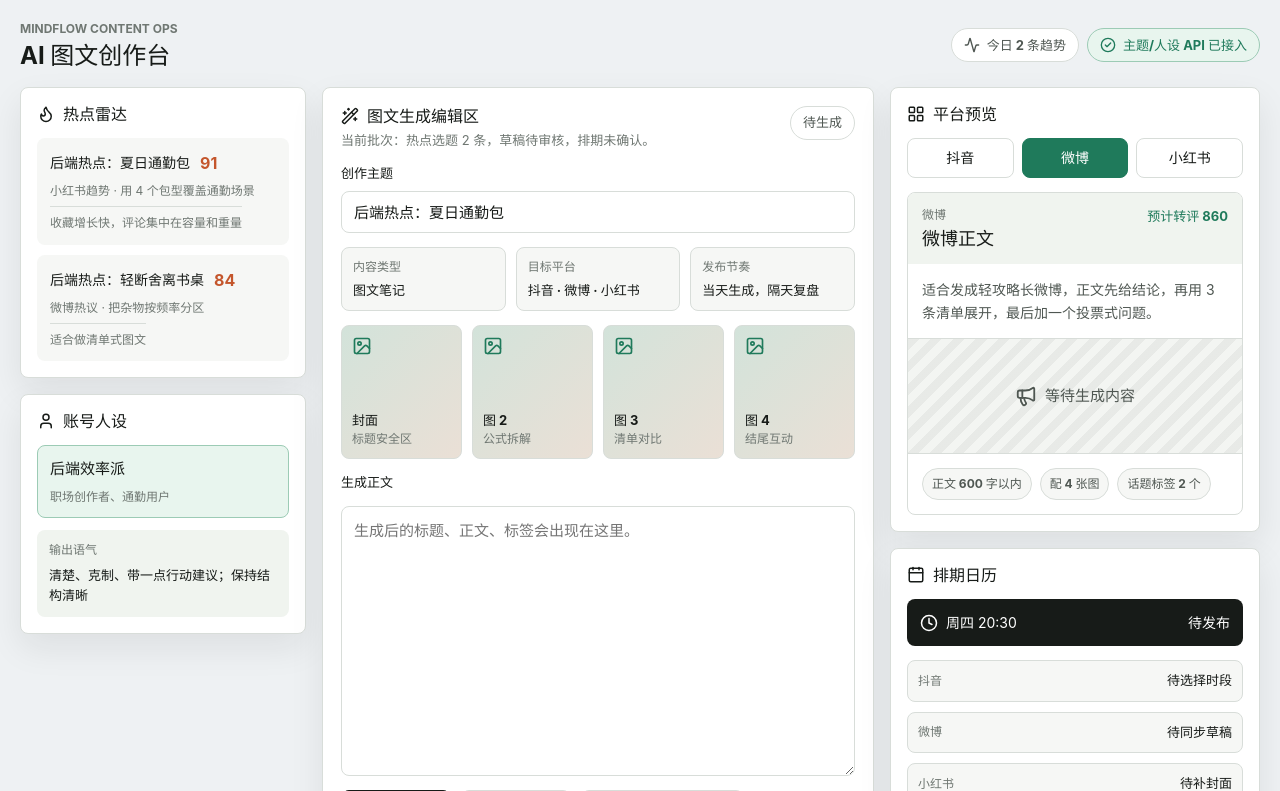
Test: MindFlow AI workbench prototype › uses backend composition to generate draft and platform previews
This screenshot has width=1280, height=791.
Click the button "后端热点：夏日通勤包 91 小红书趋势 · 用 4 个包型覆盖通勤场景 收藏增长快，评论集中在容量和重量": (163, 191) [37,138,289,245]
(page scrolled)
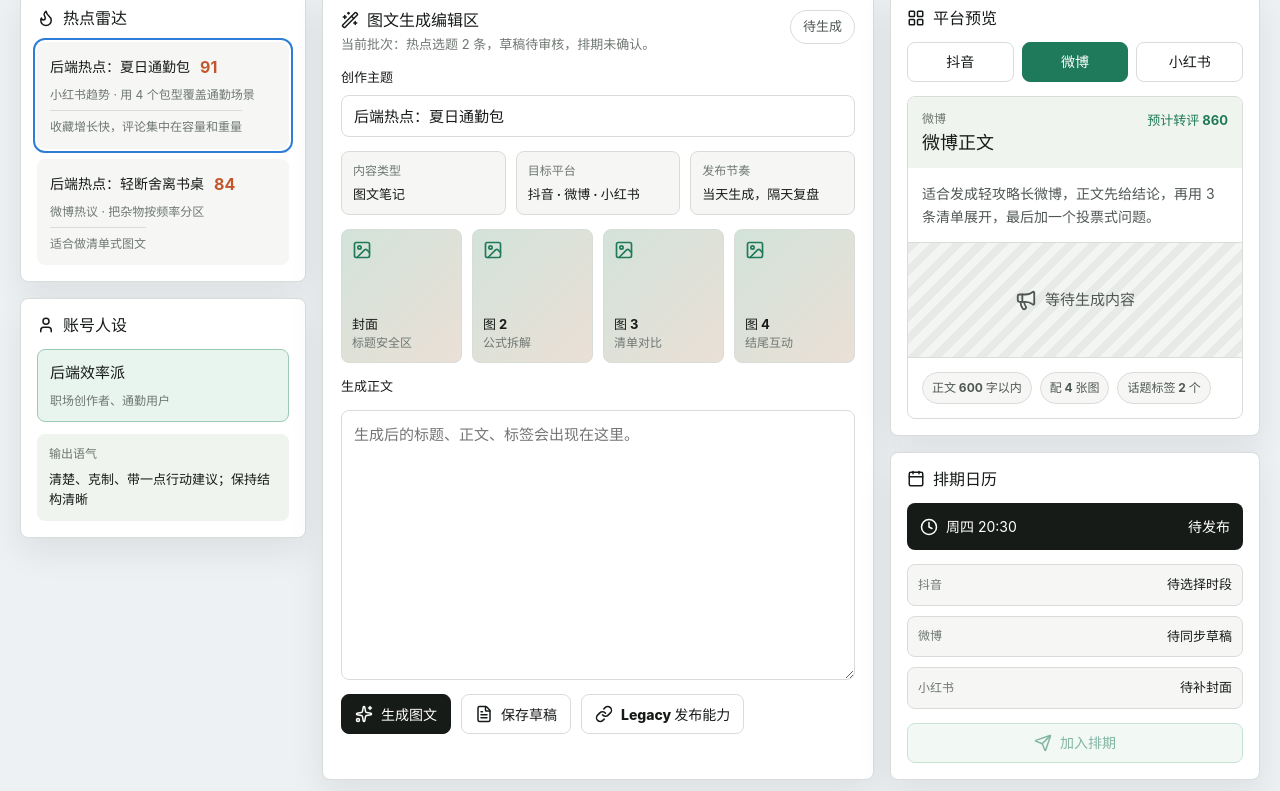
Expected: the field labelled "创作主题" holds "后端热点：夏日通勤包", [341,95,855,137]
Click the button "生成图文": (396, 714) [341,694,451,734]
(page scrolled)
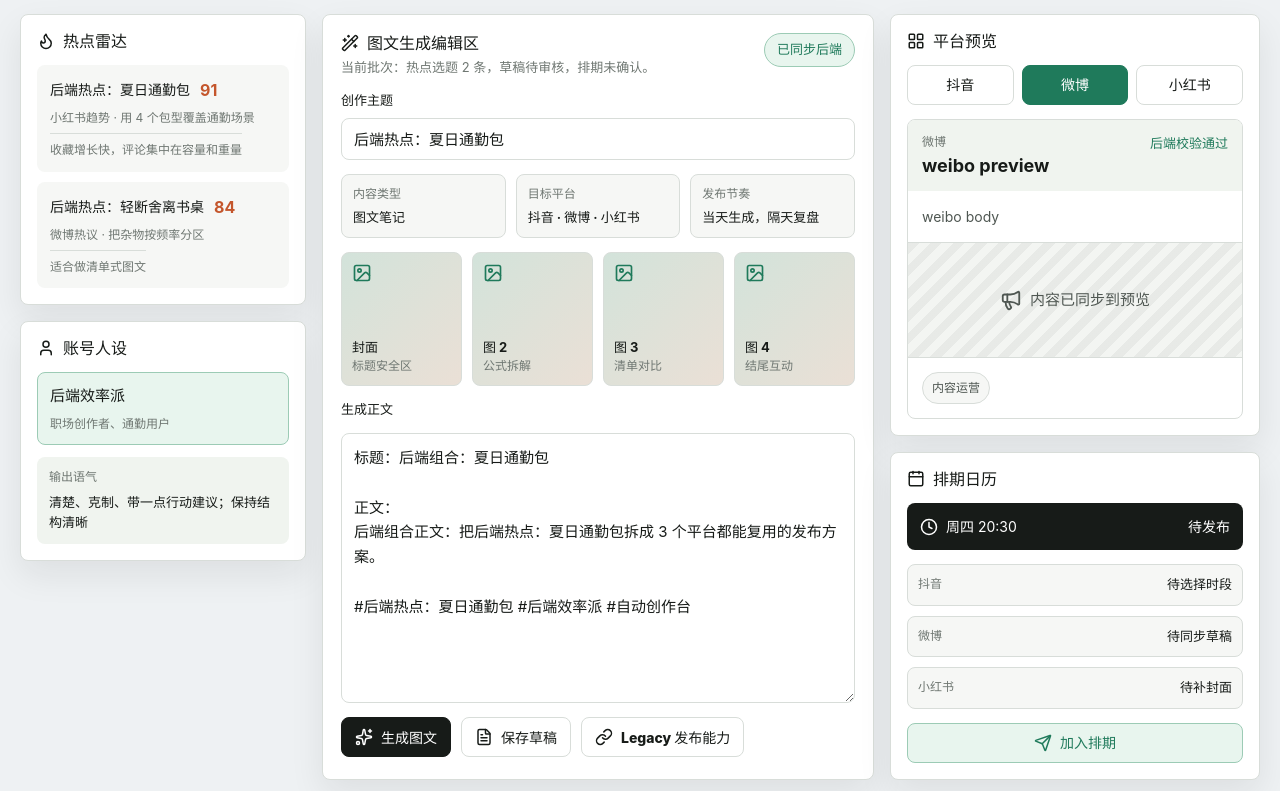
Result: the text "已同步后端" is shown at [764,33,855,67]
Result: the text box showing "后端组合正文" is shown at [341,433,855,703]
Result: the heading "weibo preview" is shown at [922,154,1049,177]
